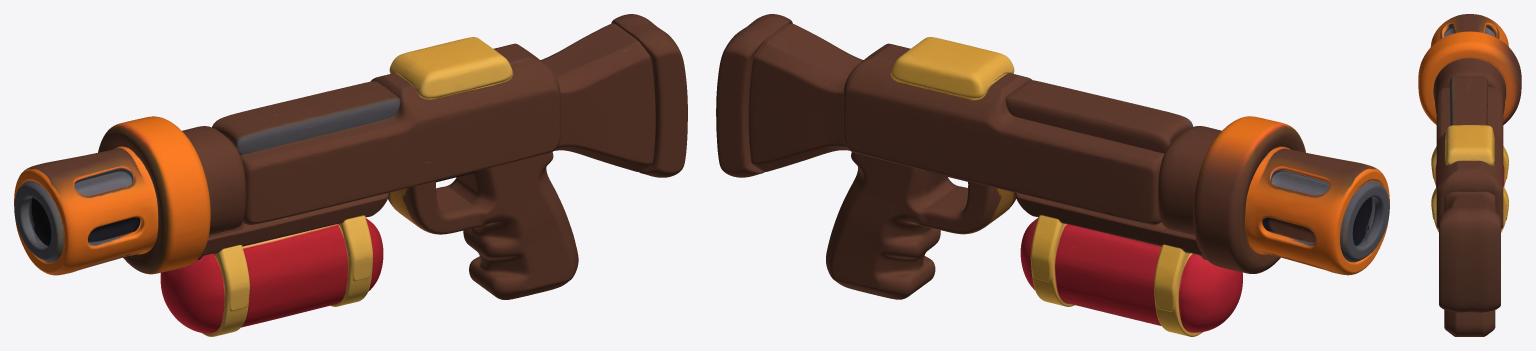
Rendered from fritzi_waffe_original.glb.
3 renders of one model, left to right at view 1: azimuth 30°, elevation 25°; view 2: azimuth 150°, elevation 25°; view 3: azimuth 270°, elevation 25°, orthographic. The views are drawn at different scales.
Bounding box in the file's own units: 1.9 × 0.7153 × 0.397.
Materials: 1 (1 with a texture image).
